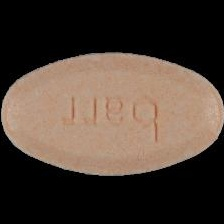64725-0833: (0, 0, 224, 224)
